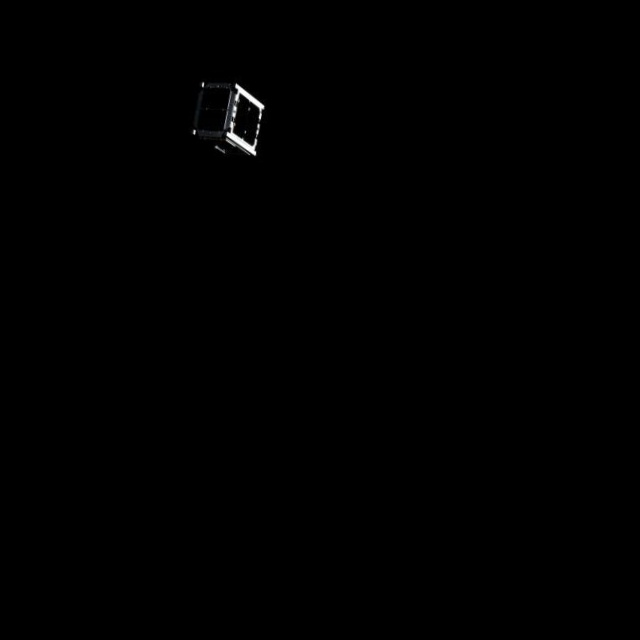satellite: (184, 73, 278, 162)
